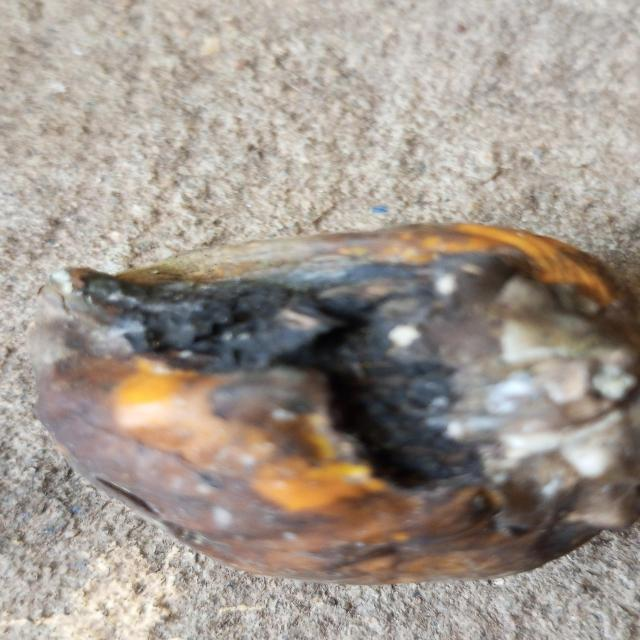damaged: (29, 223, 640, 589)
